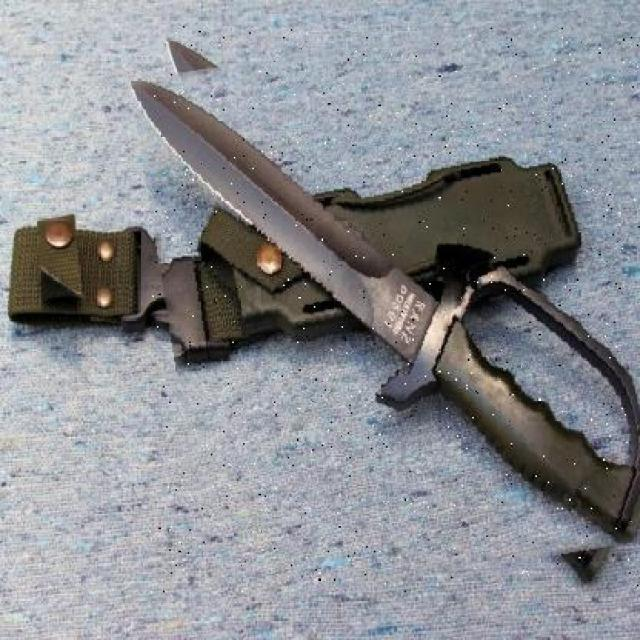knife: (149, 26, 640, 594)
